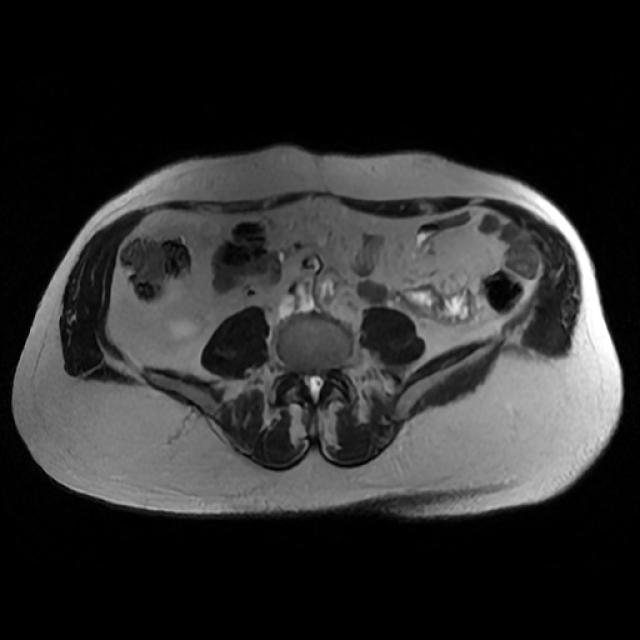sag: (161, 311, 206, 341)
